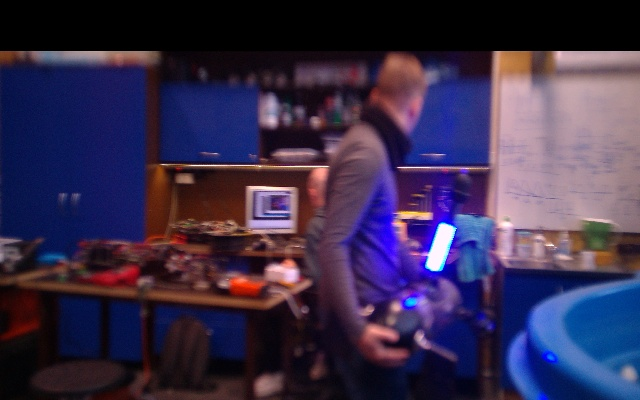blue: (426, 222, 457, 273)
